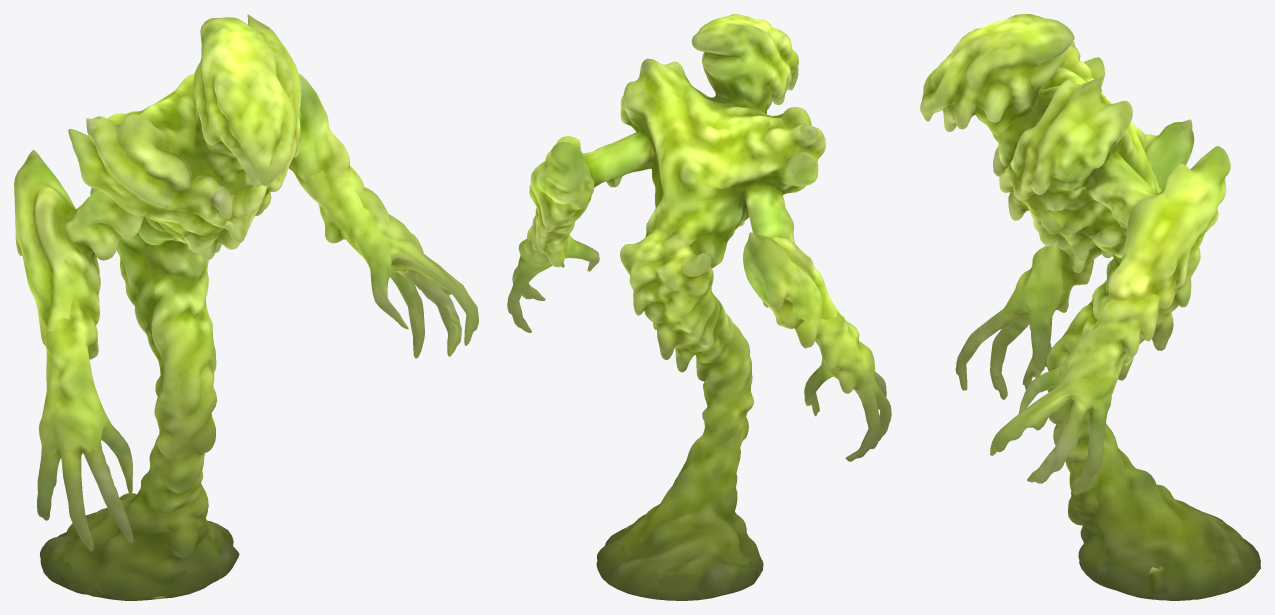
Rendered from MZ4250 - Animated Breath_Acid.glb.
3 views of the same model, side by side, from view 1: azimuth 30°, elevation 25°; view 2: azimuth 150°, elevation 25°; view 3: azimuth 270°, elevation 25° (orthographic). The views are drawn at different scales.
Visible parts, largest first — view 1: ORGANIC BASE SPHERE.001; view 2: ORGANIC BASE SPHERE.001; view 3: ORGANIC BASE SPHERE.001.
Part boxes in pixels (x1,y1,x2,y2): ORGANIC BASE SPHERE.001: [14, 14, 478, 600]; ORGANIC BASE SPHERE.001: [507, 14, 891, 600]; ORGANIC BASE SPHERE.001: [920, 14, 1260, 600].
Bounding box in the file's own units: 118 × 156 × 87.14.
Materials: 1 (1 with a texture image).
